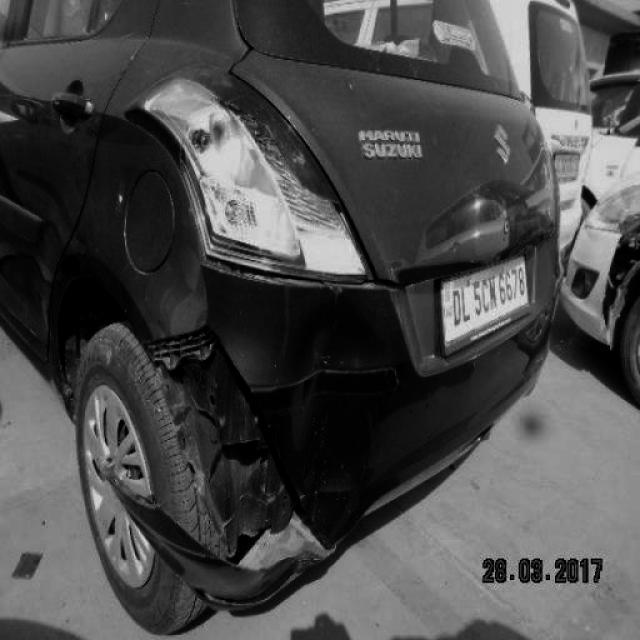car damage: (146, 325, 334, 575), (279, 296, 395, 532)
